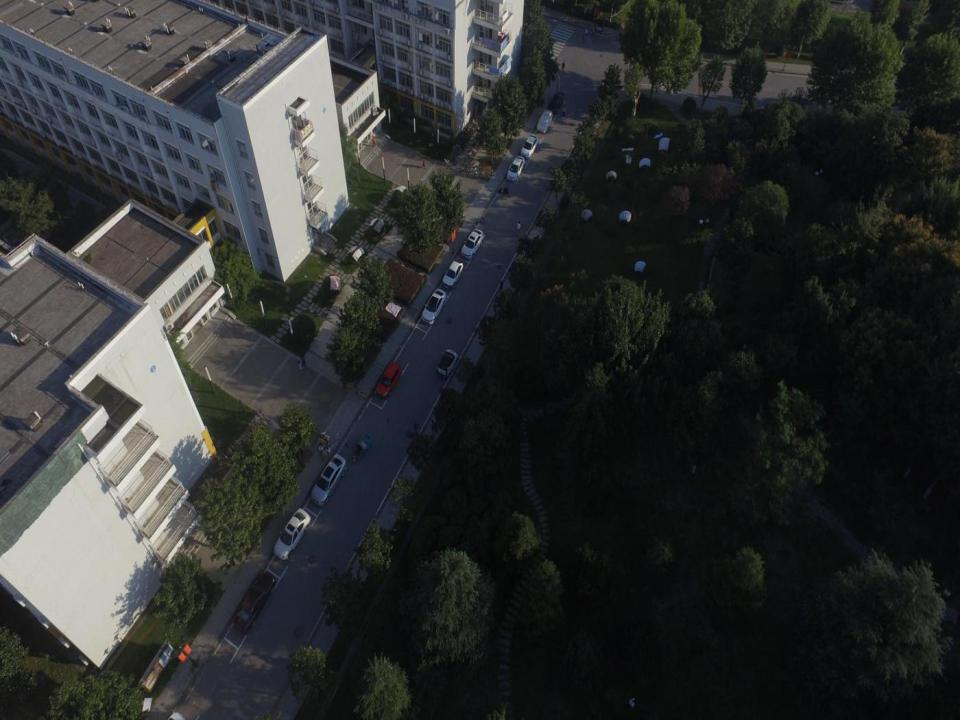car: (234, 571, 276, 631), (311, 453, 348, 507), (274, 507, 310, 560), (375, 361, 402, 400), (420, 289, 446, 326), (460, 228, 484, 258), (435, 348, 458, 377), (442, 258, 464, 288), (506, 154, 526, 182), (520, 133, 538, 158), (536, 109, 553, 133), (550, 90, 567, 112)
